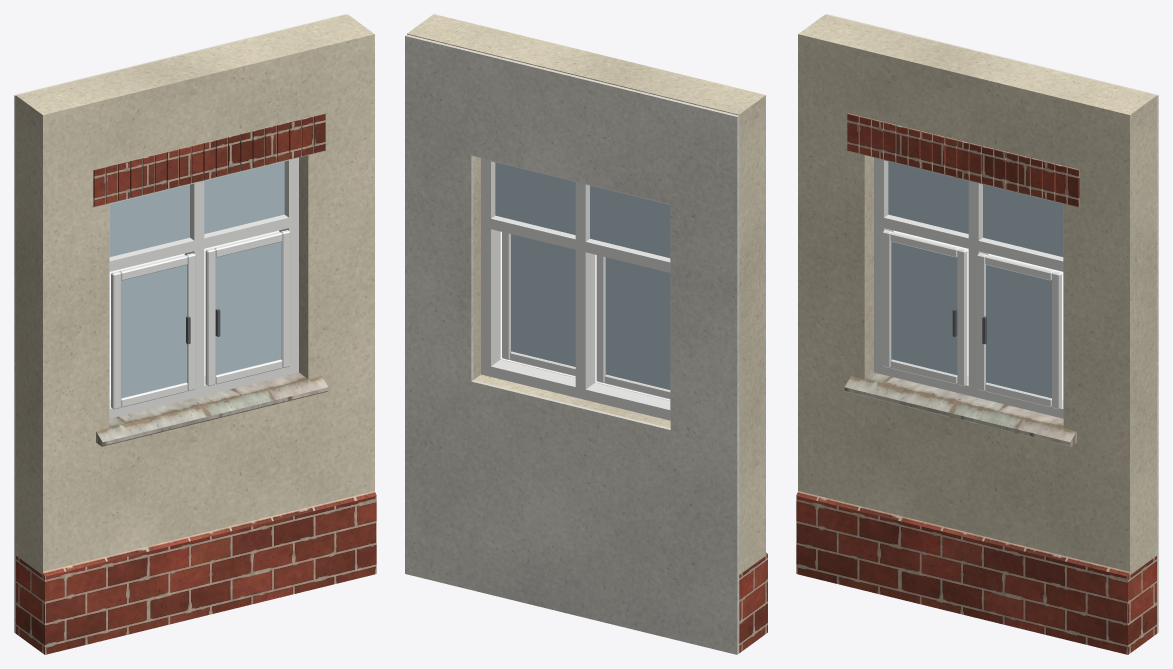
Rendered from w_g_win.glb.
The picture shows the model from 3 angles, left to right: view 1: azimuth 30°, elevation 25°; view 2: azimuth 150°, elevation 25°; view 3: azimuth 330°, elevation 25°; orthographic projection.
Parts seen in each view (by area): view 1: w_g_win_render, w_g_win_brick, w_g_win_glass, w_g_win_frame, w_g_win_sash, w_g_win_cill, w_g_win_plaster; view 2: w_g_win_plaster, w_g_win_render, w_g_win_glass, w_g_win_frame, w_g_win_sash, w_g_win_brick; view 3: w_g_win_render, w_g_win_brick, w_g_win_glass, w_g_win_frame, w_g_win_sash, w_g_win_cill, w_g_win_plaster.
Boxes of the visible parts, x1,y1,x2,y2 form: w_g_win_render: (16, 14, 374, 574); w_g_win_brick: (16, 113, 376, 654); w_g_win_glass: (109, 161, 284, 398); w_g_win_frame: (109, 157, 298, 418); w_g_win_sash: (111, 230, 290, 409); w_g_win_cill: (92, 150, 328, 446); w_g_win_plaster: (14, 14, 346, 633); w_g_win_plaster: (405, 34, 739, 654); w_g_win_render: (407, 14, 765, 574); w_g_win_glass: (495, 162, 670, 389); w_g_win_frame: (481, 158, 670, 420); w_g_win_sash: (502, 232, 670, 399); w_g_win_brick: (739, 552, 767, 652); w_g_win_render: (798, 14, 1156, 574); w_g_win_brick: (796, 113, 1156, 654); w_g_win_glass: (888, 161, 1063, 398); w_g_win_frame: (874, 157, 1063, 418); w_g_win_sash: (882, 230, 1061, 409); w_g_win_cill: (844, 150, 1080, 446); w_g_win_plaster: (826, 14, 1158, 633).
Size of the model in its own units: 2 by 3.1 by 0.37.
8 materials, 4 textured.
